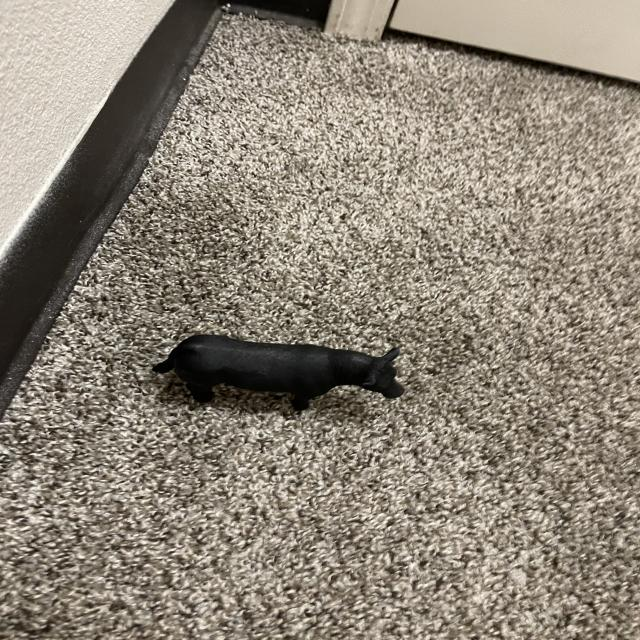cow: (150, 331, 407, 418)
